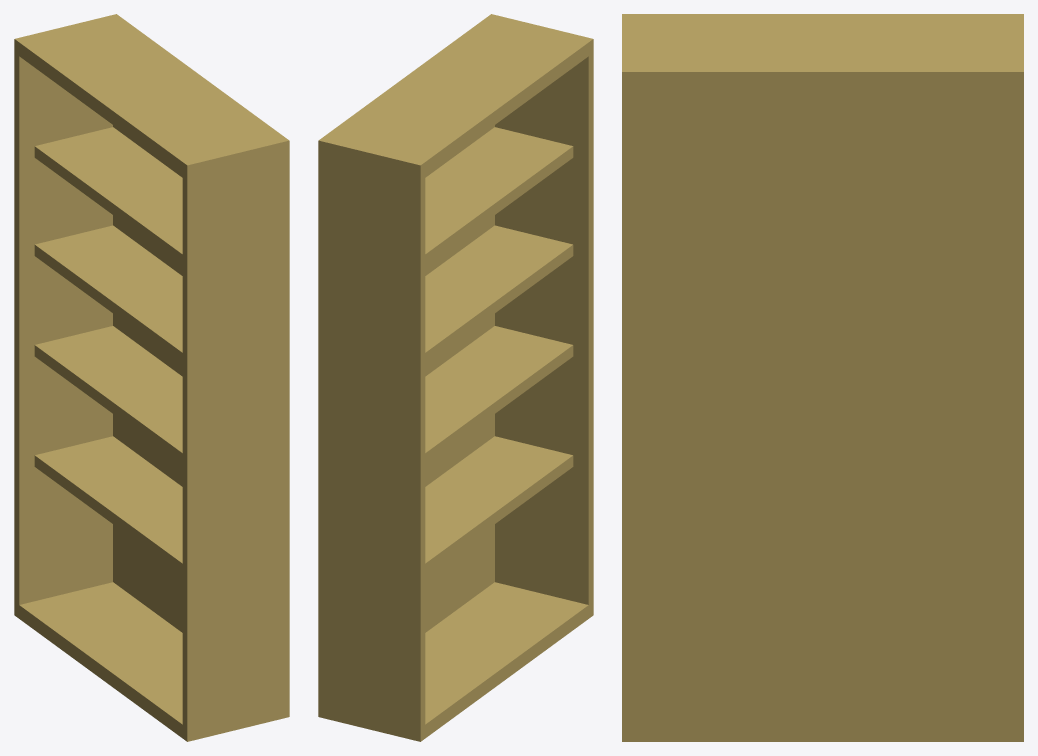
File: shelf_small.glb
The picture shows the model from 3 angles, left to right: view 1: azimuth 30°, elevation 25°; view 2: azimuth 150°, elevation 25°; view 3: azimuth 270°, elevation 25°; orthographic projection. The views are drawn at different scales.
Visible parts, largest first — view 1: pCube69; view 2: pCube69; view 3: pCube69.
Boxes of the visible parts, bbox=[...] form: pCube69: bbox=[14, 14, 289, 741]; pCube69: bbox=[318, 14, 593, 741]; pCube69: bbox=[622, 14, 1023, 741].
Bounding box in the file's own units: 0.2731 × 1.47 × 0.8006.
